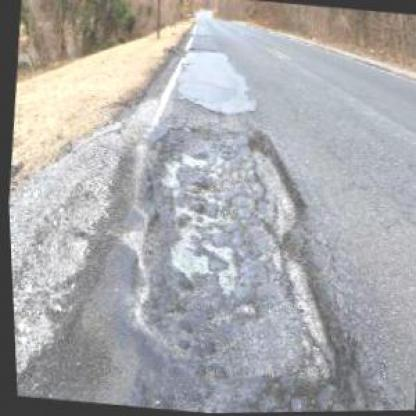pothole: (111, 111, 374, 413)
